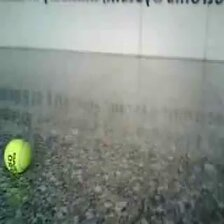tennis: (4, 138, 32, 175)
